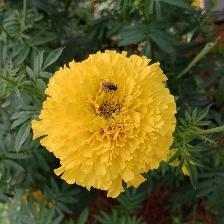marigold: (31, 49, 179, 200)
